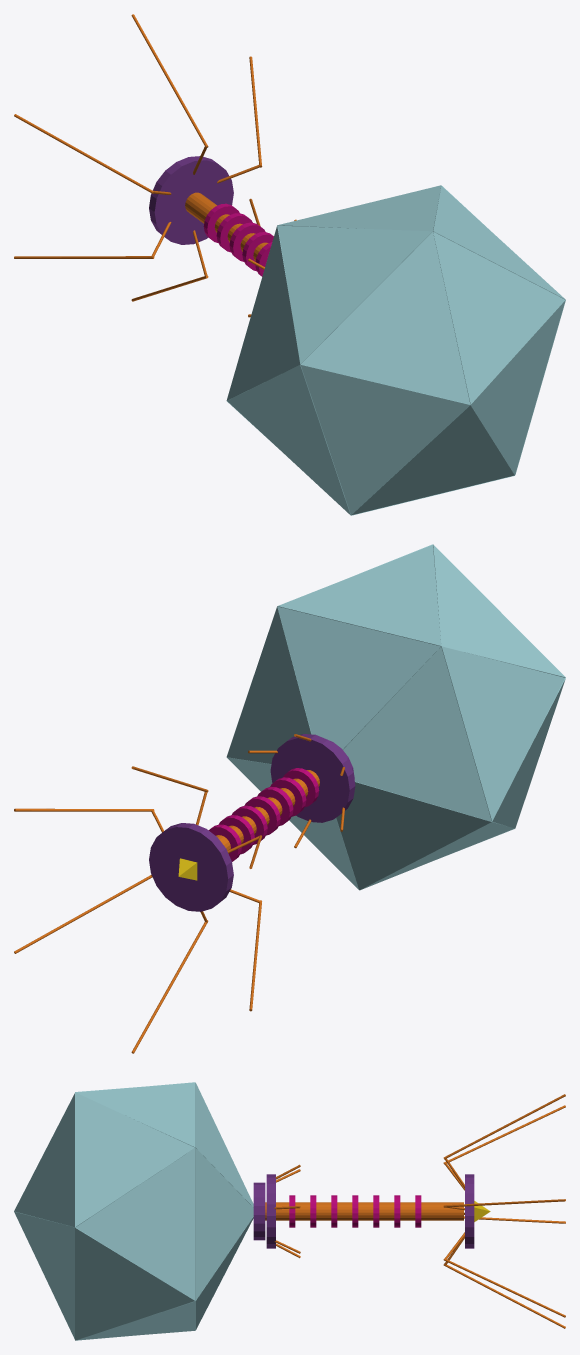
The model's file is Bacteriophage Final.fbx.
The picture shows the model from 3 angles, top to bottom: view 1: azimuth 30°, elevation 25°; view 2: azimuth 150°, elevation 25°; view 3: azimuth 270°, elevation 25°; orthographic projection. The views are drawn at different scales.
Visible parts, largest first — view 1: Mesh_Mesh_head_geo.001_lambert2SG.001; view 2: Mesh_Mesh_head_geo.001_lambert2SG.001; view 3: Mesh_Mesh_head_geo.001_lambert2SG.001.
Part boxes in pixels (box(x1,y1,x2,y2)): Mesh_Mesh_head_geo.001_lambert2SG.001: box(14, 14, 565, 515); Mesh_Mesh_head_geo.001_lambert2SG.001: box(14, 544, 565, 1053); Mesh_Mesh_head_geo.001_lambert2SG.001: box(14, 1082, 565, 1340).
Bounding box in the file's own units: 21.46 × 22.55 × 47.28.
